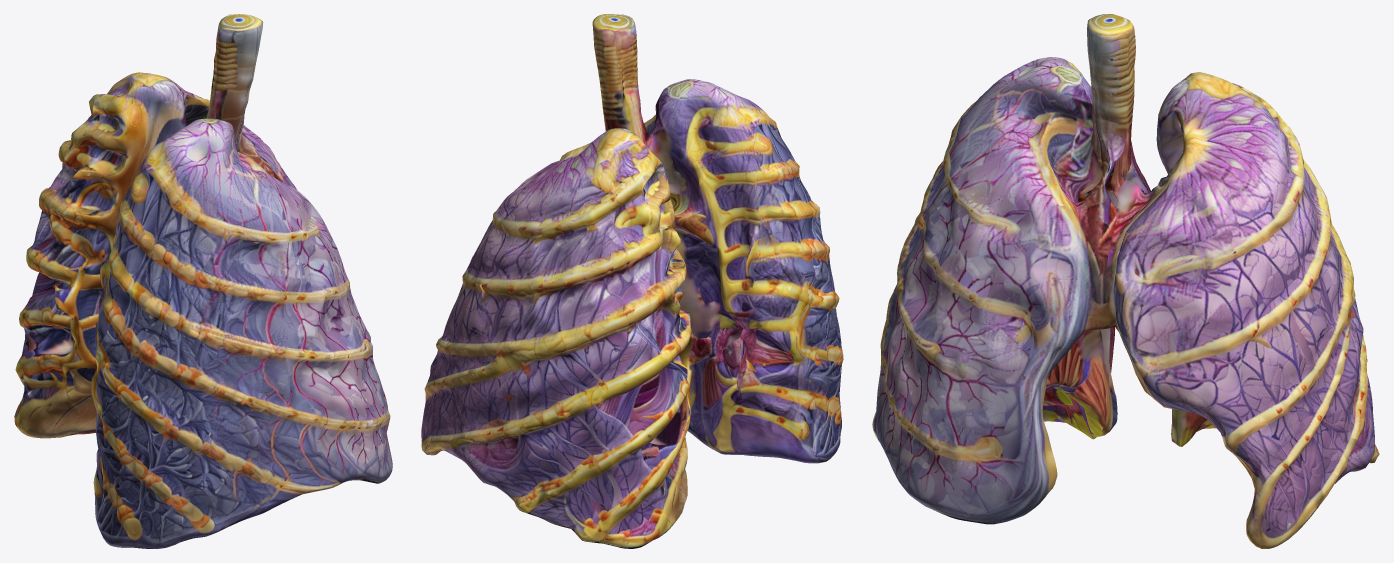
The model's file is generate_a_human_anatomy_lungs,_which_shows_all_the_detailed__0328075812_refine.glb.
3 renders of one model, left to right at view 1: azimuth 30°, elevation 25°; view 2: azimuth 150°, elevation 25°; view 3: azimuth 270°, elevation 25°, orthographic. The views are drawn at different scales.
Bounding box in the file's own units: 0.8509 × 1.2 × 1.12.
Materials: 1 (1 with a texture image).
